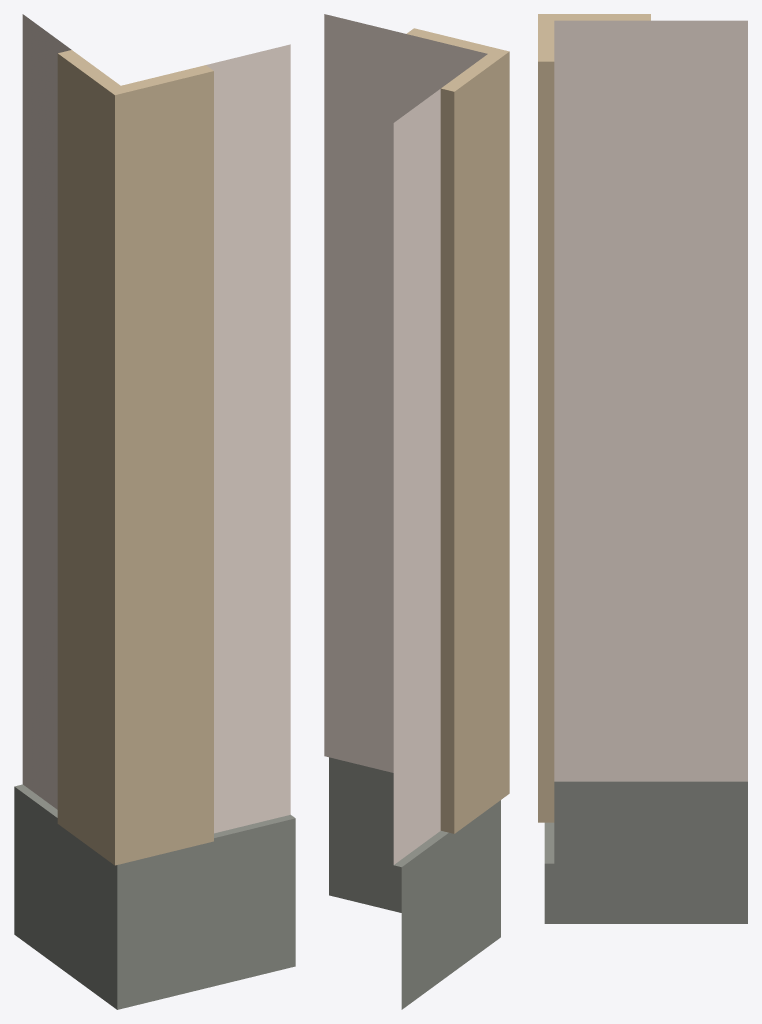
The picture shows the model from 3 angles, left to right: view 1: azimuth 30°, elevation 25°; view 2: azimuth 150°, elevation 25°; view 3: azimuth 270°, elevation 25°; orthographic projection. The views are drawn at different scales.
Parts seen in each view (by area): view 1: a2001/200/base-c1; view 2: a2001/200/base-c1; view 3: a2001/200/base-c1.
Boxes of the visible parts, box(x1,y1,x2,y2) form: a2001/200/base-c1: box(14, 14, 295, 1009); a2001/200/base-c1: box(324, 14, 509, 1009); a2001/200/base-c1: box(538, 14, 747, 923).
Bounding box in the file's own units: 0.65 × 3.1 × 0.65.
